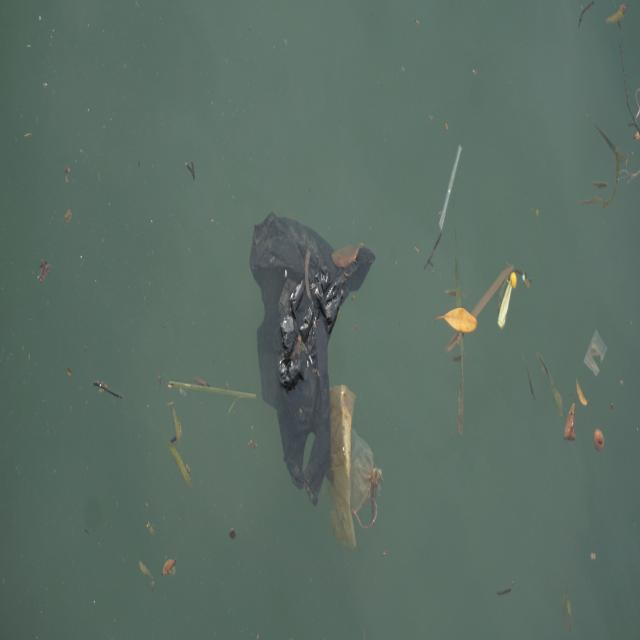Kantong Plastik: (247, 212, 372, 502), (322, 379, 388, 558)
